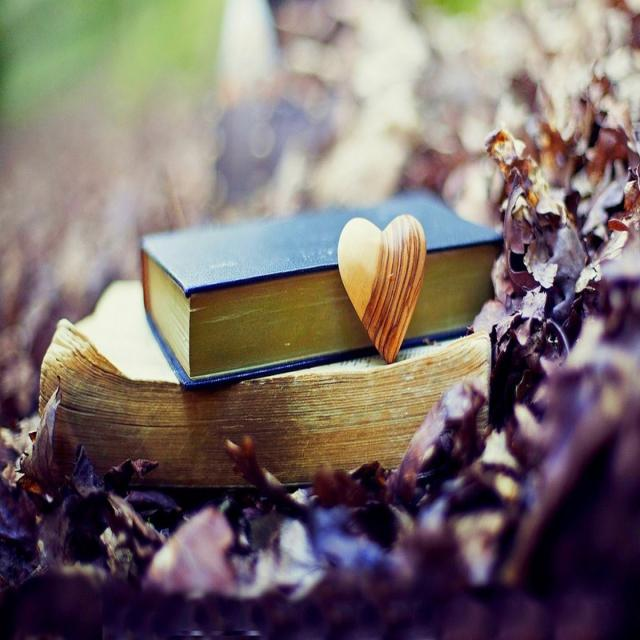book: (124, 178, 517, 383)
